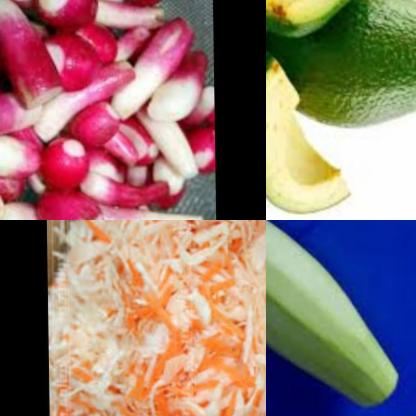avocado: (266, 0, 416, 133), (266, 47, 373, 220), (266, 0, 415, 46)
cabbage: (44, 220, 142, 398), (136, 220, 266, 333), (244, 335, 266, 416)
carrot: (145, 332, 185, 385), (117, 258, 137, 349), (198, 335, 238, 375), (195, 269, 233, 301), (140, 285, 170, 325), (142, 387, 174, 416), (77, 220, 110, 244), (64, 361, 91, 389), (50, 398, 75, 416), (108, 399, 132, 416)
rediska: (0, 0, 216, 220)
vegetable marrow: (266, 220, 408, 416)
